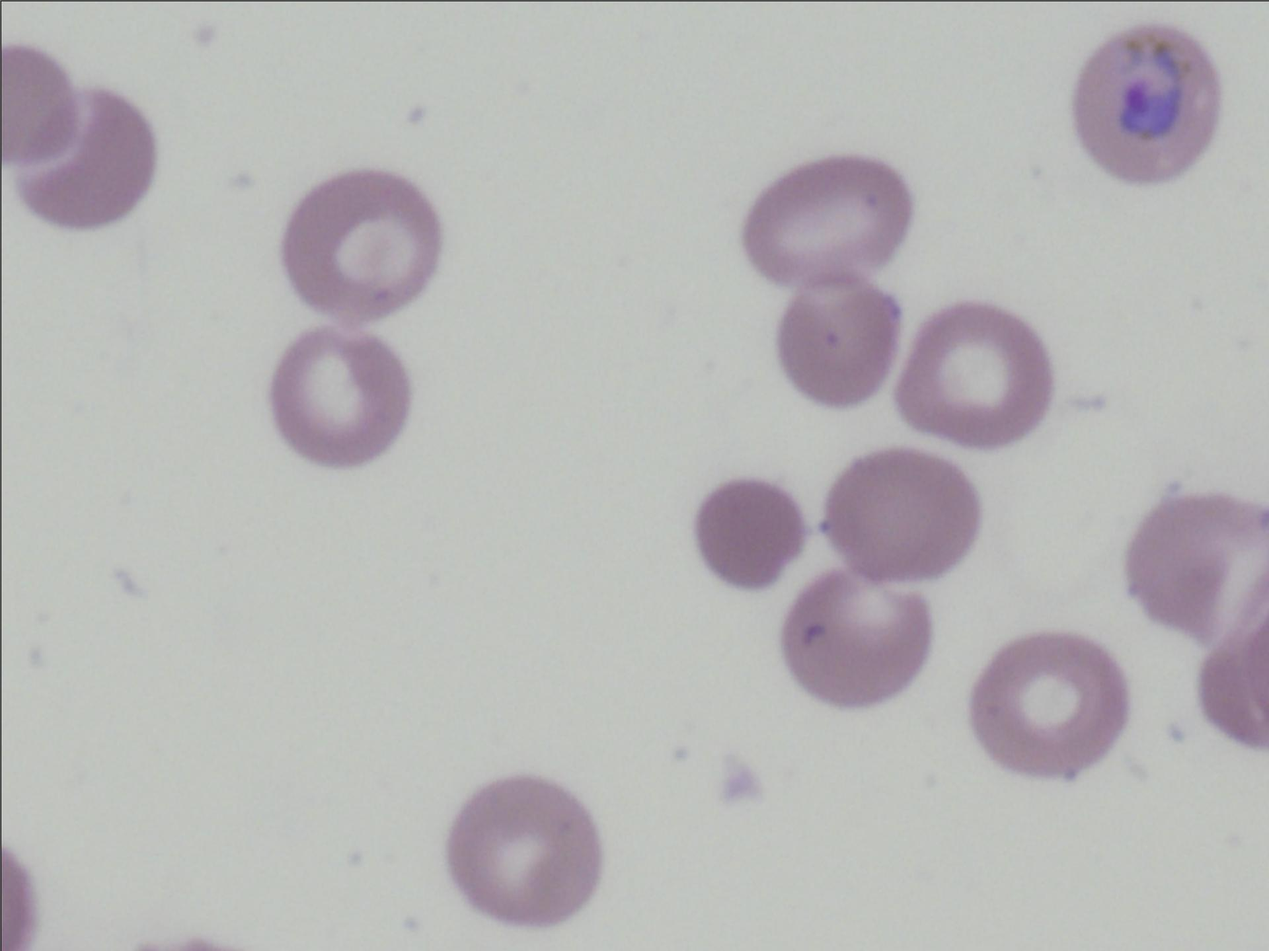Infected: (1069, 29, 1223, 187)
Uninfected: (447, 770, 603, 929), (286, 170, 441, 326), (742, 153, 919, 288), (967, 629, 1129, 773), (897, 303, 1057, 445), (782, 560, 935, 704), (826, 450, 988, 580), (1126, 499, 1269, 642), (273, 327, 408, 471), (775, 263, 900, 409), (22, 89, 151, 227), (690, 479, 811, 589)
